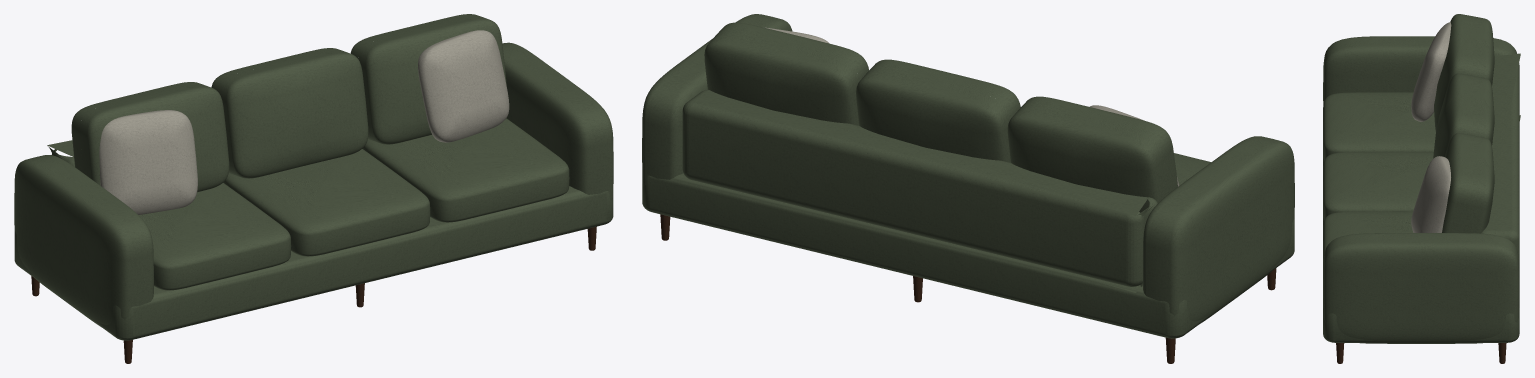
The model's file is milan-3.glb.
3 views of the same model, side by side, from view 1: azimuth 30°, elevation 25°; view 2: azimuth 150°, elevation 25°; view 3: azimuth 270°, elevation 25° (orthographic). The views are drawn at different scales.
Bounding box in the file's own units: 2.38 × 0.8667 × 0.9265.
3 materials, 3 textured.
